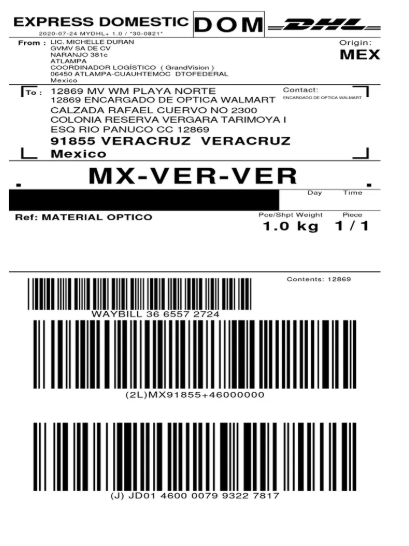waybill_text: (90, 310, 220, 319)
